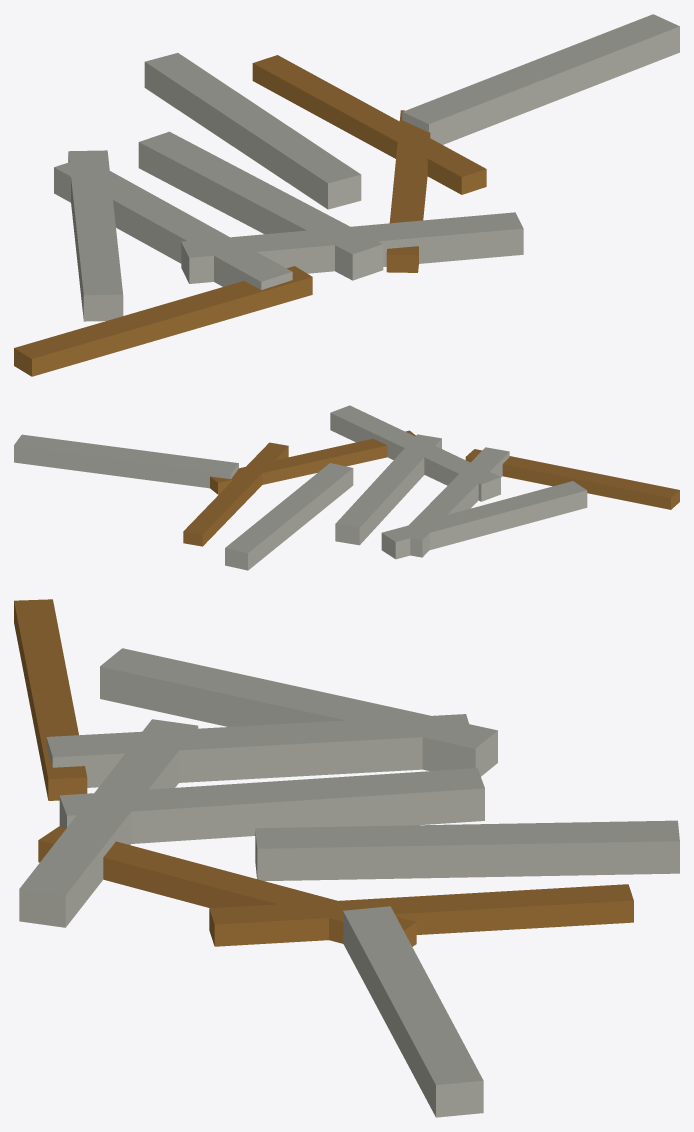
The model's file is SM_TraviesasSueltas_v2_Desparramadas_LOD0.fbx.
The picture shows the model from 3 angles, top to bottom: view 1: azimuth 30°, elevation 25°; view 2: azimuth 150°, elevation 25°; view 3: azimuth 270°, elevation 25°; orthographic projection. The views are drawn at different scales.
Visible parts, largest first — view 1: SM_traviesas_sueltas_v2_LOD0; view 2: SM_traviesas_sueltas_v2_LOD0; view 3: SM_traviesas_sueltas_v2_LOD0.
Boxes of the visible parts, x1,y1,x2,y2 form: SM_traviesas_sueltas_v2_LOD0: (14,14,679,376); SM_traviesas_sueltas_v2_LOD0: (14,405,679,570); SM_traviesas_sueltas_v2_LOD0: (14,599,679,1117).
Bounding box in the file's own units: 7.22 × 0.22 × 4.09.
